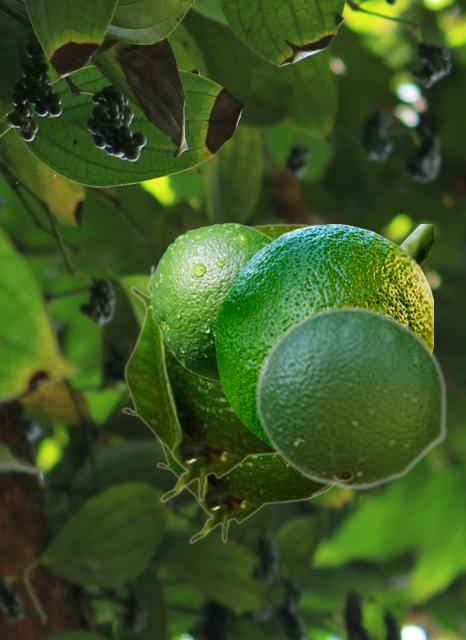dalandan: (120, 223, 310, 502), (215, 224, 432, 448), (254, 305, 447, 490), (150, 222, 274, 381), (155, 444, 332, 543)
